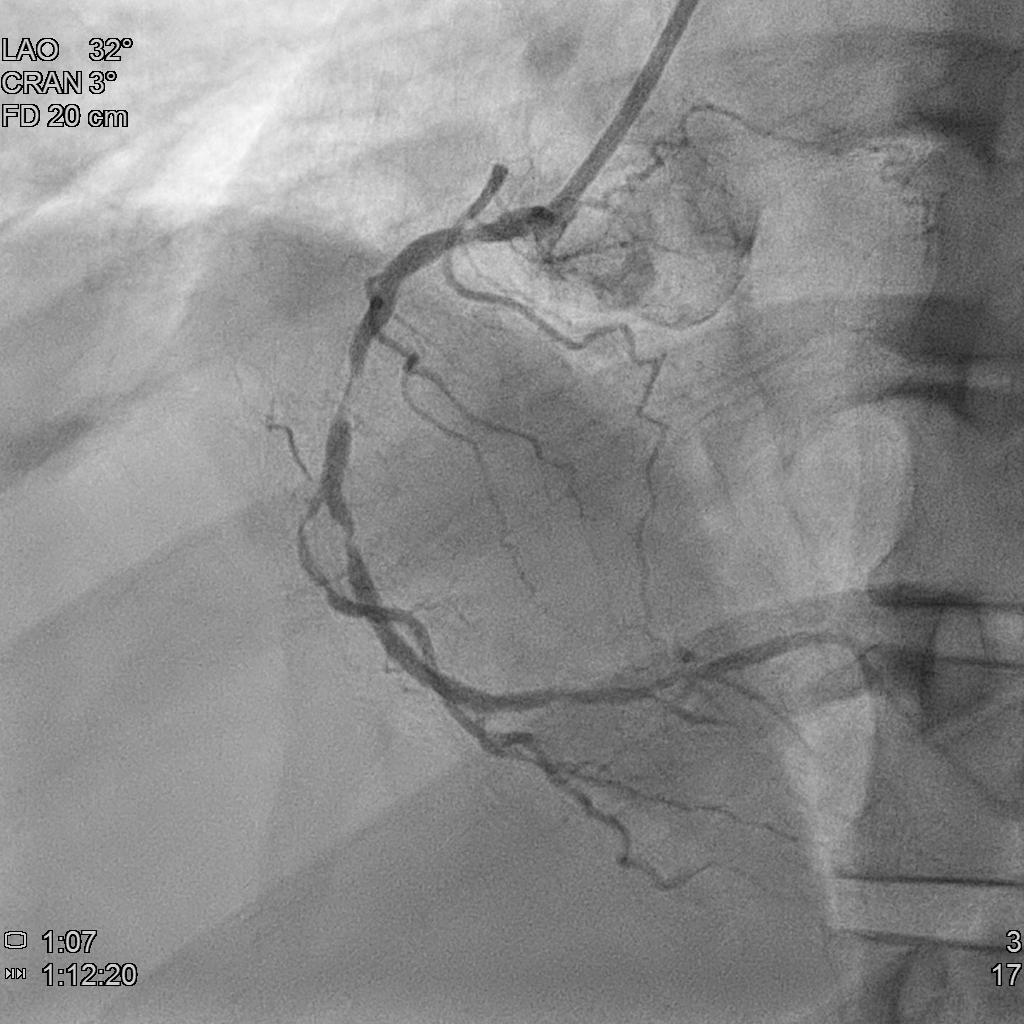block: (264, 288, 446, 463)
